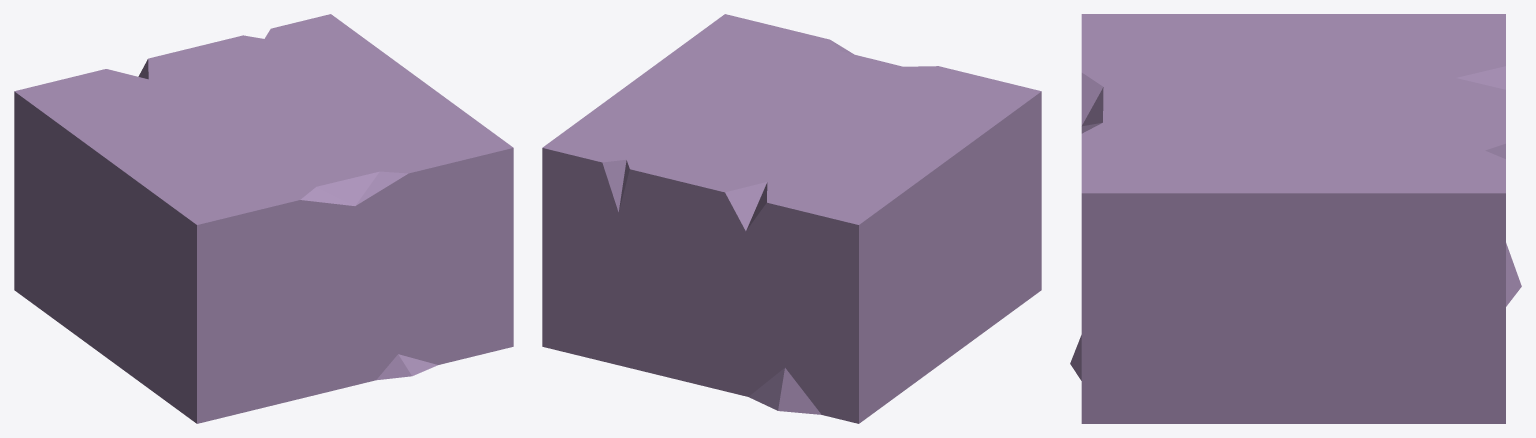
The model's file is Wall.002.fbx.
3 views of the same model, side by side, from view 1: azimuth 30°, elevation 25°; view 2: azimuth 150°, elevation 25°; view 3: azimuth 270°, elevation 25° (orthographic). The views are drawn at different scales.
Parts seen in each view (by area): view 1: Wall.002; view 2: Wall.002; view 3: Wall.002.
Part boxes in pixels (box(x1,y1,x2,y2)): Wall.002: box(14, 14, 513, 423); Wall.002: box(542, 14, 1041, 423); Wall.002: box(1070, 14, 1521, 423).
Bounding box in the file's own units: 1000 × 600 × 1065.
